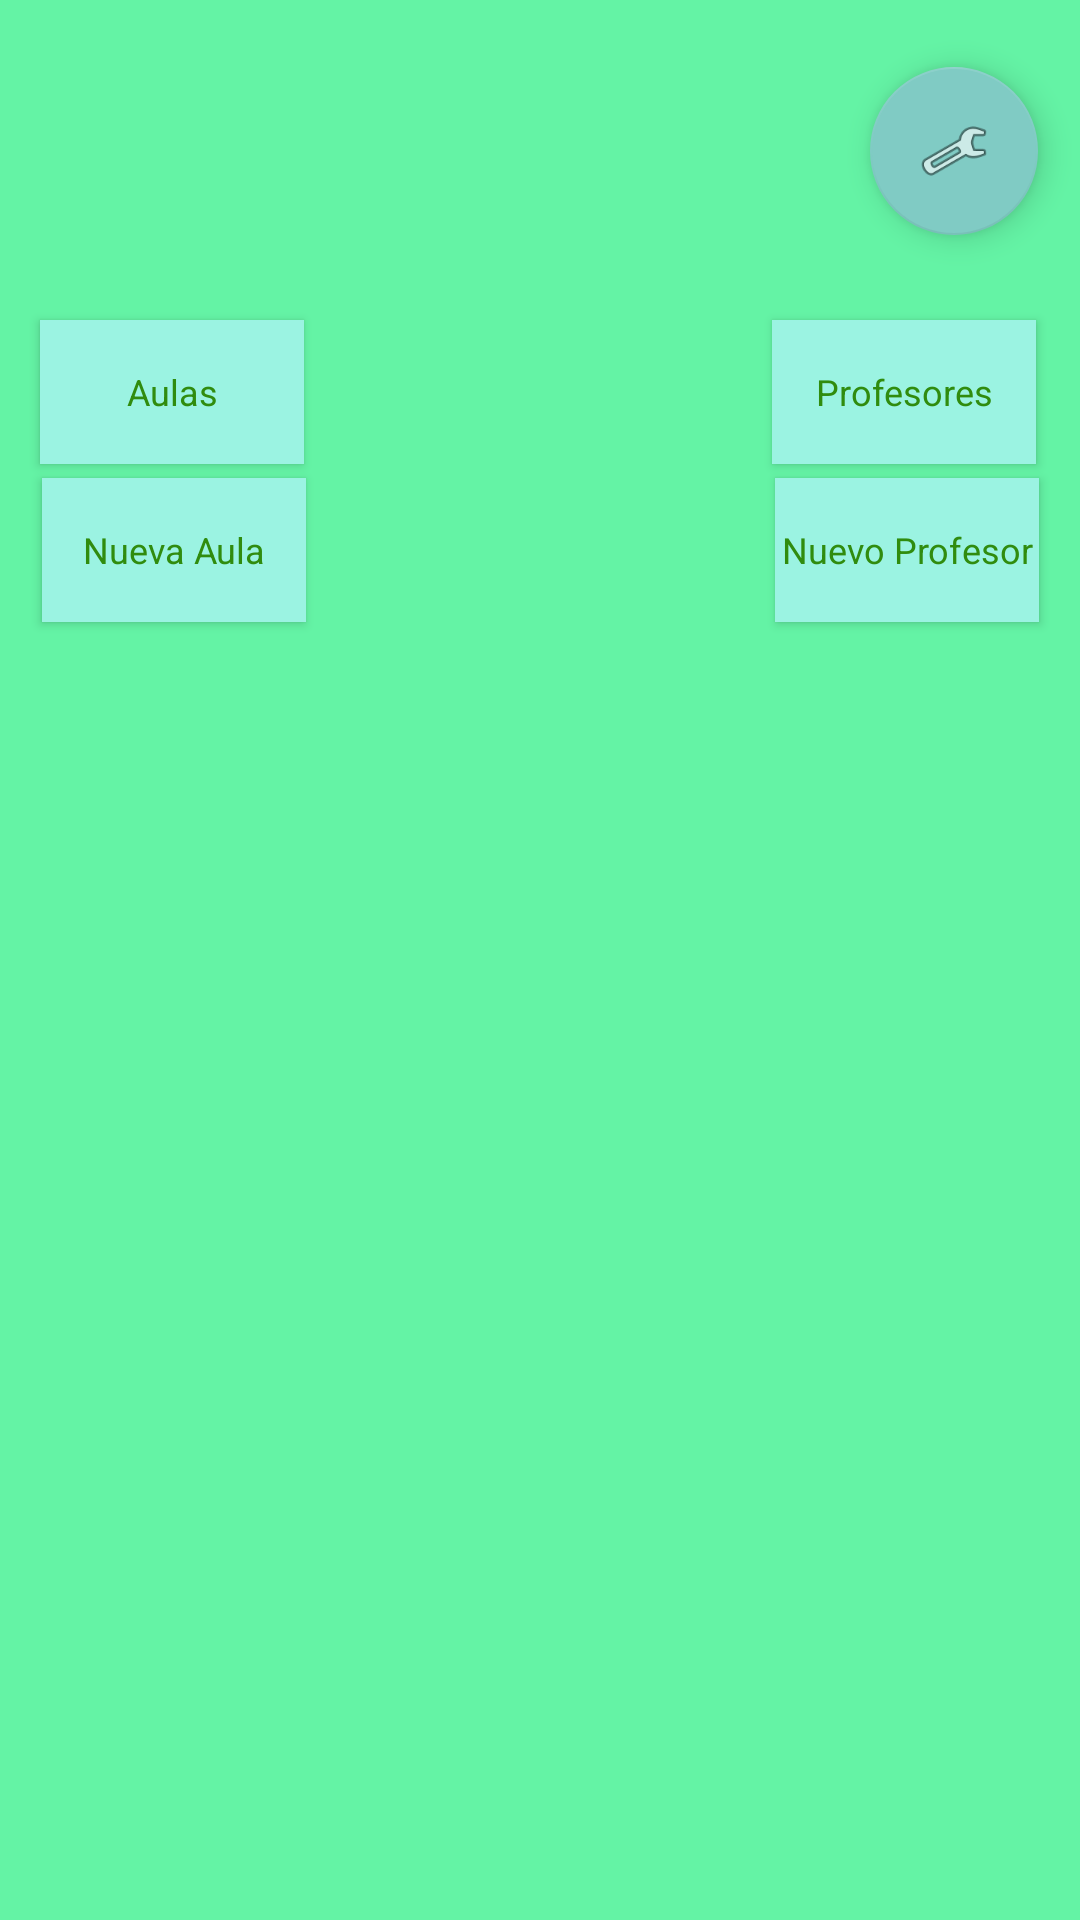

Icon bounding boxes for this 1080px x 1920px phone screenshot, format (x1, y1, x2, y2):
preferences: (870, 67, 1038, 235)
